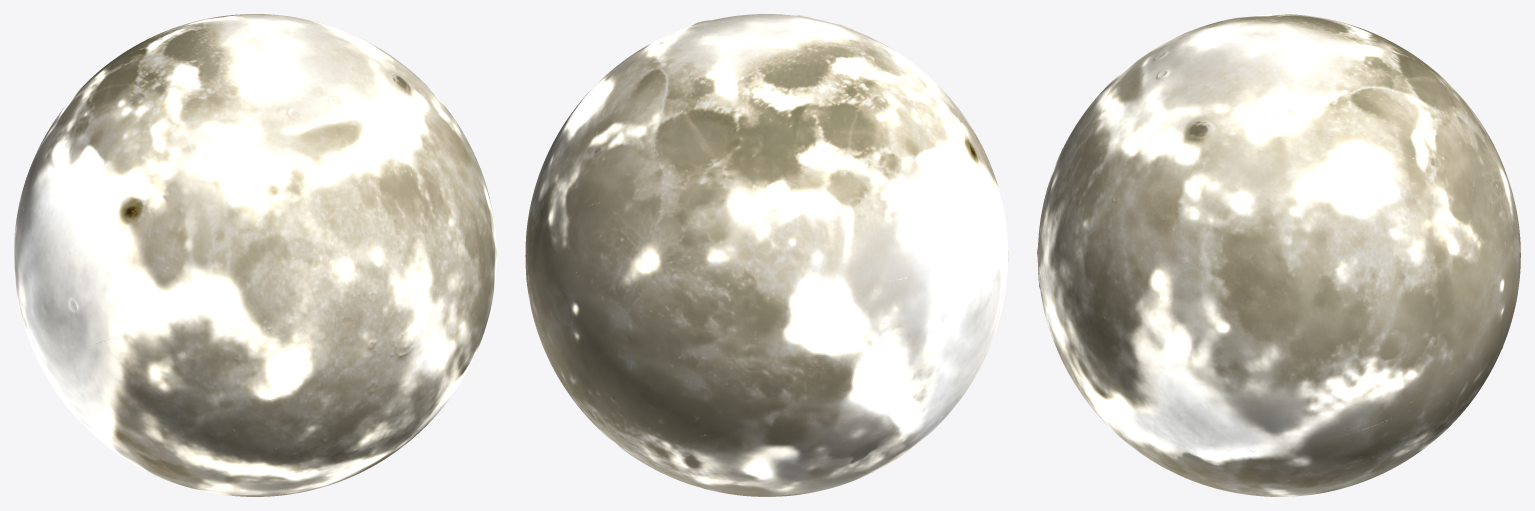
Rendered from real moon.glb.
3 renders of one model, left to right at view 1: azimuth 30°, elevation 25°; view 2: azimuth 150°, elevation 25°; view 3: azimuth 270°, elevation 25°, orthographic.
Bounding box in the file's own units: 1.9 × 1.89 × 1.9.
Materials: 1 (1 with a texture image).
